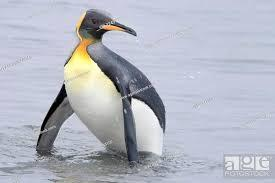king: (42, 6, 179, 169)
